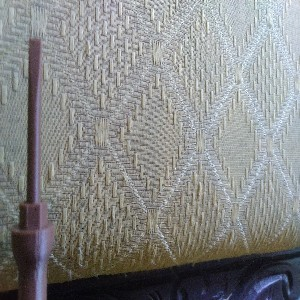obeng: (11, 37, 57, 300)
